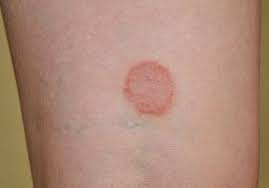tina: (122, 51, 180, 119)
